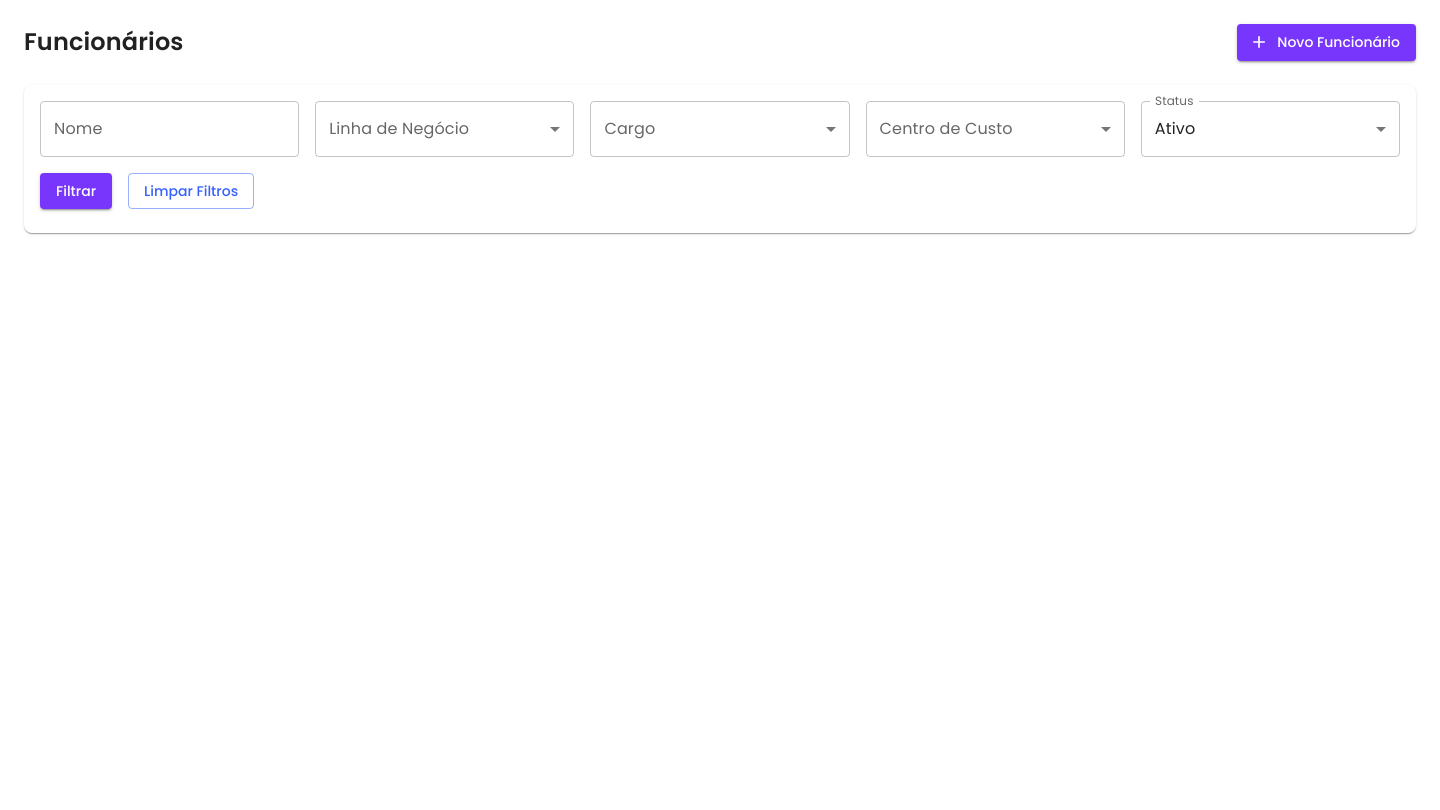
Funcionarios page › opens create dialog
This screenshot has width=1440, height=810.
Click the button "Novo Funcionário": [1327, 42] box [1237, 24, 1416, 60]
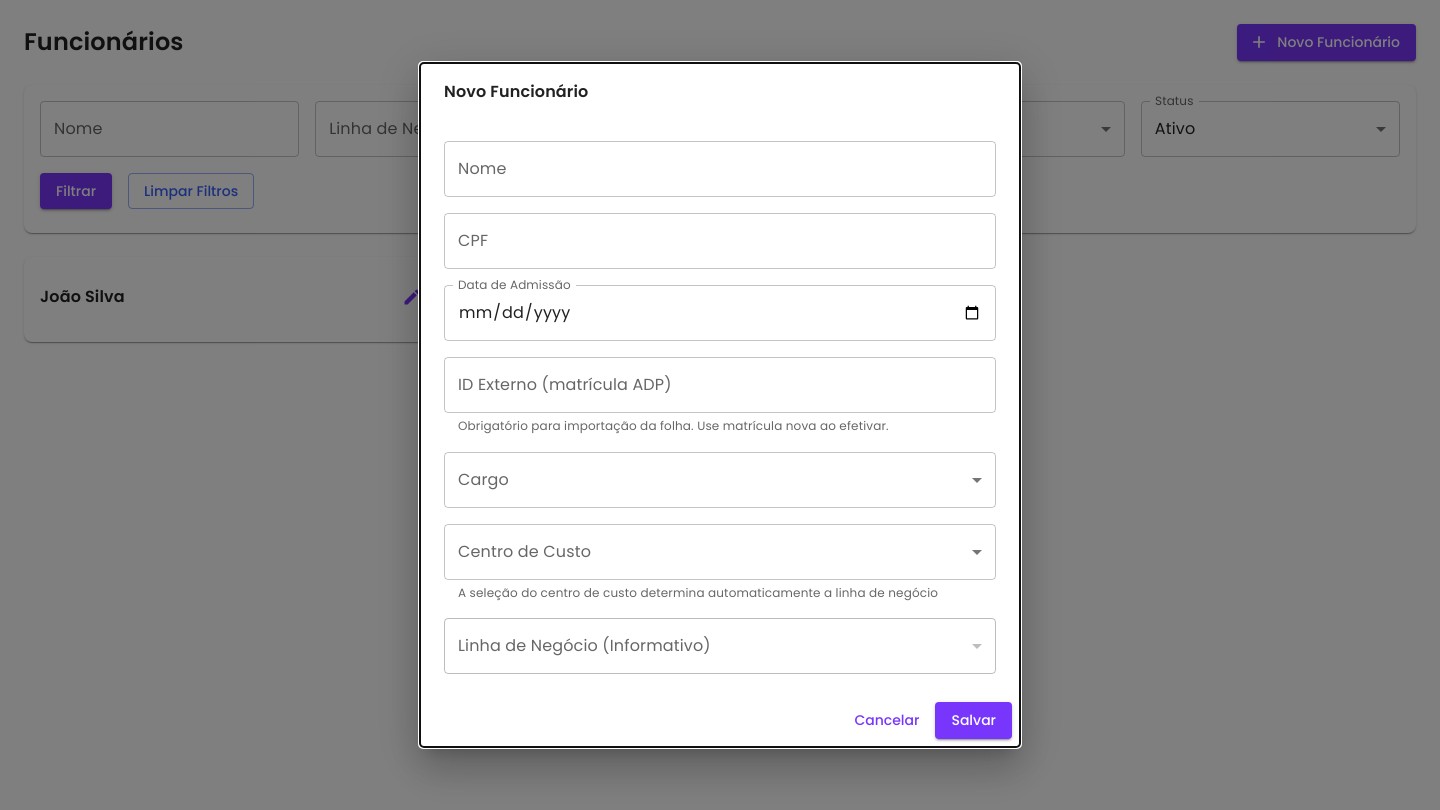
Now the heading "Novo Funcionário" is shown, box [444, 80, 588, 103]
